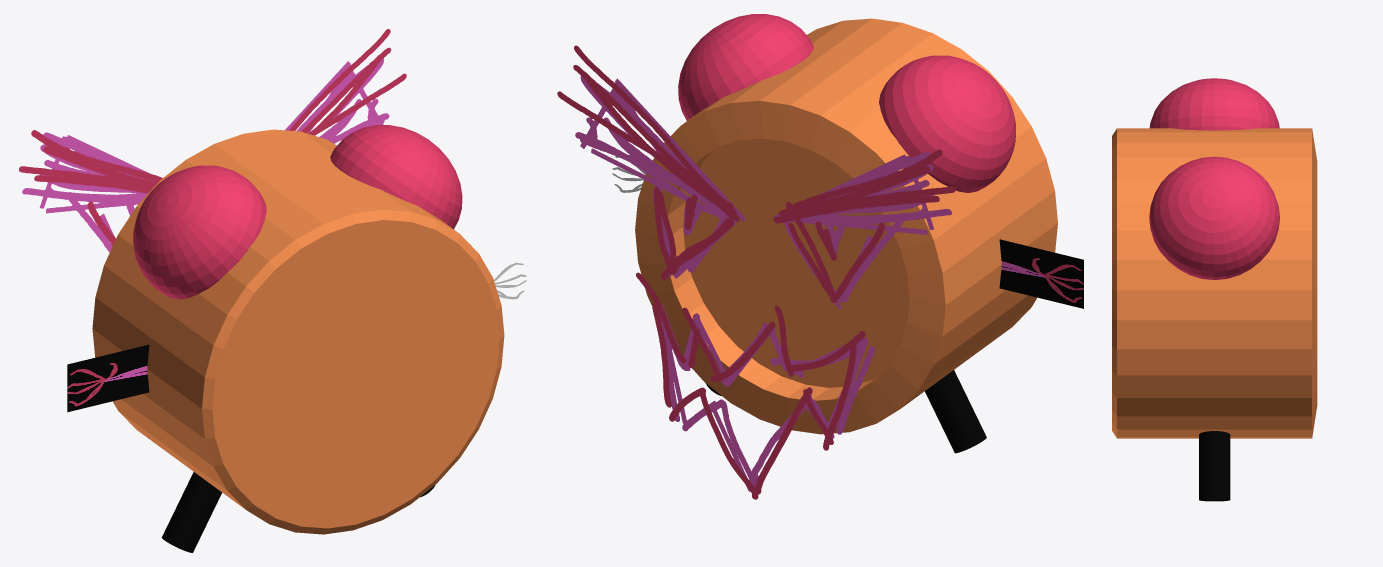
File: Padbonheur.fbx
The picture shows the model from 3 angles, left to right: view 1: azimuth 30°, elevation 25°; view 2: azimuth 150°, elevation 25°; view 3: azimuth 270°, elevation 25°; orthographic projection. The views are drawn at different scales.
Visible parts, largest first — view 1: BODY, RIGHTBELL, FACE, LEFTBELL, RIGHTARM, RIGHTLEG; view 2: BODY, FACE, RIGHTBELL, LEFTBELL, RIGHTARM, RIGHTLEG; view 3: BODY, LEFTBELL, RIGHTBELL, LEFTLEG.
Boxes of the visible parts, x1,y1,x2,y2 form: BODY: (92, 129, 504, 534); RIGHTBELL: (133, 165, 266, 299); FACE: (19, 29, 406, 252); LEFTBELL: (330, 125, 462, 229); RIGHTARM: (67, 344, 149, 412); RIGHTLEG: (161, 472, 221, 552); BODY: (635, 18, 1057, 434); FACE: (557, 45, 955, 499); RIGHTBELL: (879, 55, 1015, 192); LEFTBELL: (678, 14, 813, 120); RIGHTARM: (999, 239, 1083, 308); RIGHTLEG: (925, 370, 986, 453); BODY: (1112, 128, 1317, 438); LEFTBELL: (1149, 156, 1279, 279); RIGHTBELL: (1149, 78, 1279, 130); LEFTLEG: (1199, 431, 1230, 501).
Size of the model in its own units: 304 by 261 by 165.
Materials: 6 (2 with a texture image).
